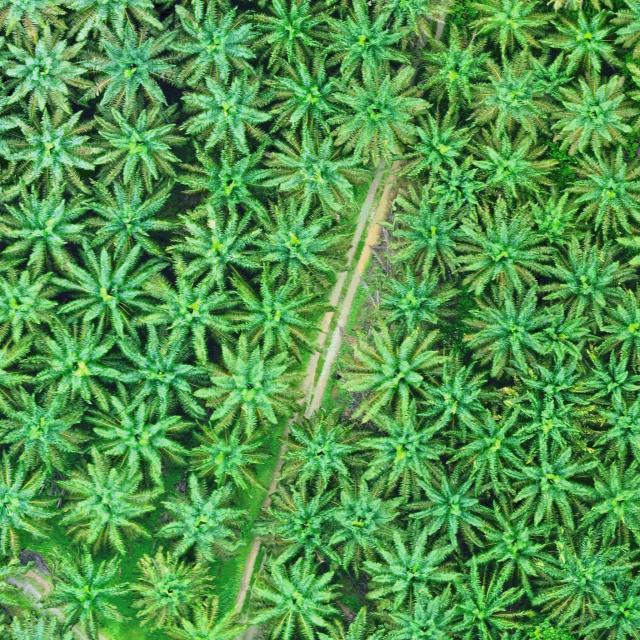Tree: (134, 245, 248, 367), (326, 50, 436, 169), (77, 380, 190, 493), (191, 329, 310, 434), (48, 240, 168, 344), (82, 85, 194, 196), (351, 400, 462, 510), (216, 261, 332, 366), (243, 191, 358, 296), (252, 114, 366, 218), (110, 317, 218, 423), (55, 448, 158, 559), (494, 435, 604, 535), (256, 42, 364, 141), (336, 322, 445, 420), (77, 17, 182, 117), (463, 490, 563, 594), (0, 96, 99, 199), (533, 236, 639, 332), (443, 396, 543, 497), (36, 538, 135, 640), (451, 201, 548, 303), (18, 315, 126, 406), (0, 381, 97, 481), (153, 468, 251, 566), (176, 63, 276, 159), (64, 172, 178, 255), (462, 285, 556, 384), (357, 525, 461, 614), (0, 22, 96, 118), (321, 481, 419, 575), (401, 460, 492, 561), (466, 122, 562, 217), (162, 203, 262, 294), (278, 408, 376, 500), (0, 175, 91, 272), (321, 0, 417, 89), (168, 138, 280, 214), (168, 0, 260, 91), (471, 47, 556, 145), (530, 536, 618, 630), (385, 193, 477, 281), (414, 352, 498, 447), (128, 546, 218, 633), (547, 73, 639, 158), (565, 140, 640, 244), (252, 558, 347, 640), (414, 20, 496, 111), (262, 478, 343, 570), (176, 413, 274, 485), (395, 100, 483, 180), (245, 0, 338, 72), (447, 566, 535, 640), (464, 1, 561, 66), (512, 352, 600, 421), (507, 384, 582, 464), (374, 263, 458, 334), (544, 0, 620, 78), (578, 457, 640, 550), (569, 338, 640, 414), (0, 263, 61, 346), (581, 387, 640, 472), (426, 152, 491, 218), (523, 188, 586, 246), (524, 53, 578, 104)
